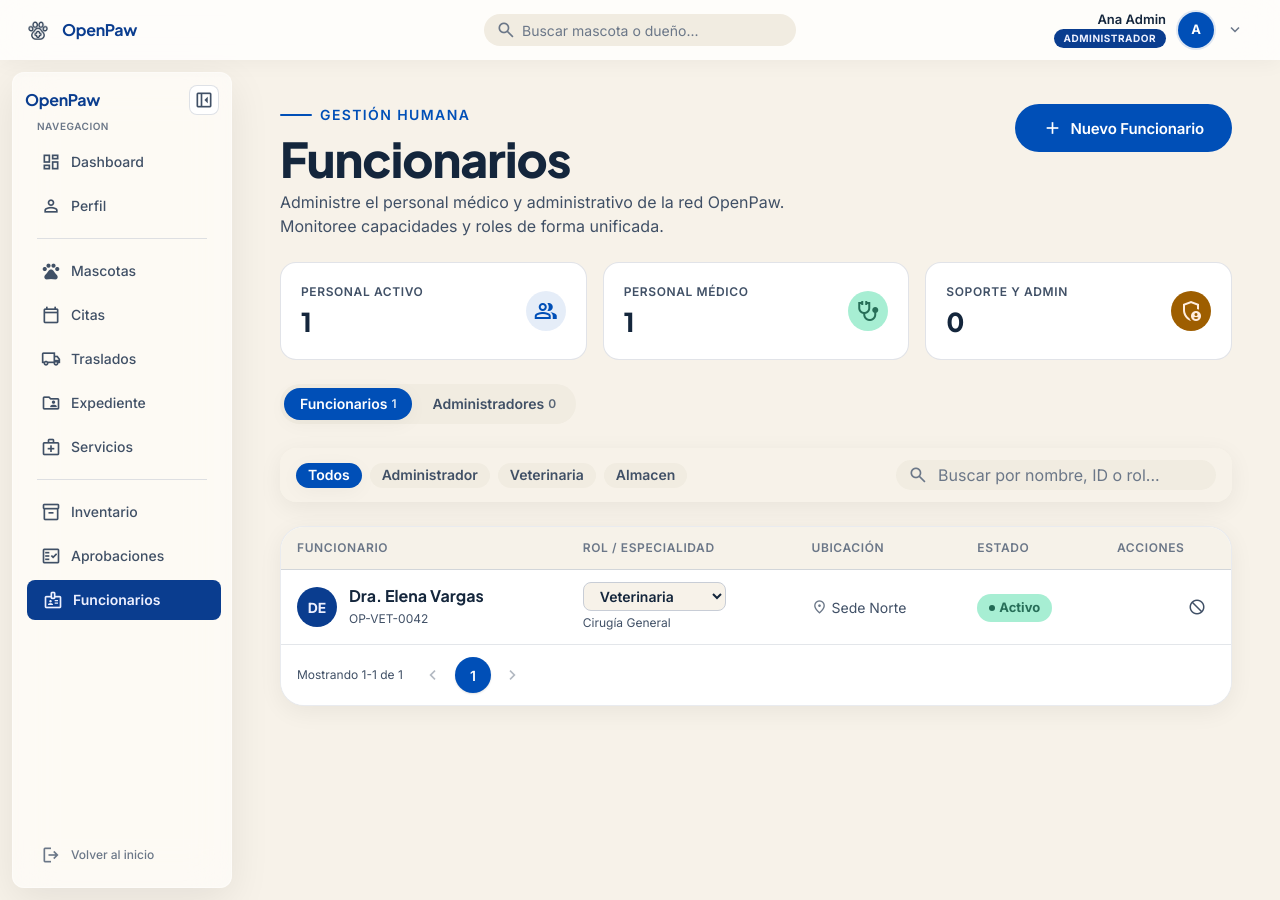
Test: FuncionariosPage - rediseno tabla con buscador, filtros rol y paginacion (T32) › empty state con busqueda sin coincidencias
Expected: the text "Dra. Elena Vargas" is shown, [349,586,484,607]
Type "zzzz" into the search field named "Buscar funcionario".
click(1070, 475); type("zzzz")  # box [936,464,1204,486]
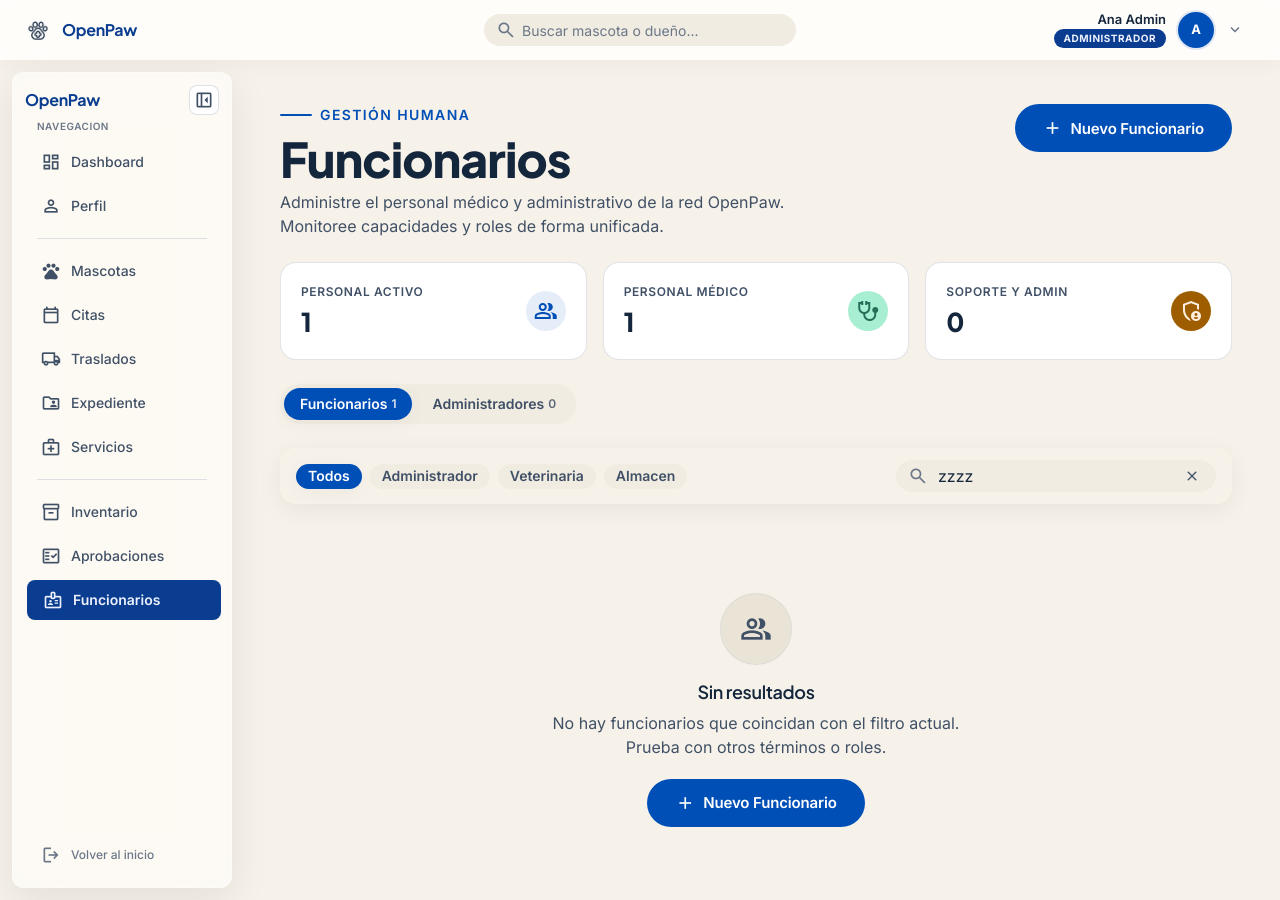
Expected: the heading "Sin resultados" is shown, [698,681,815,703]
